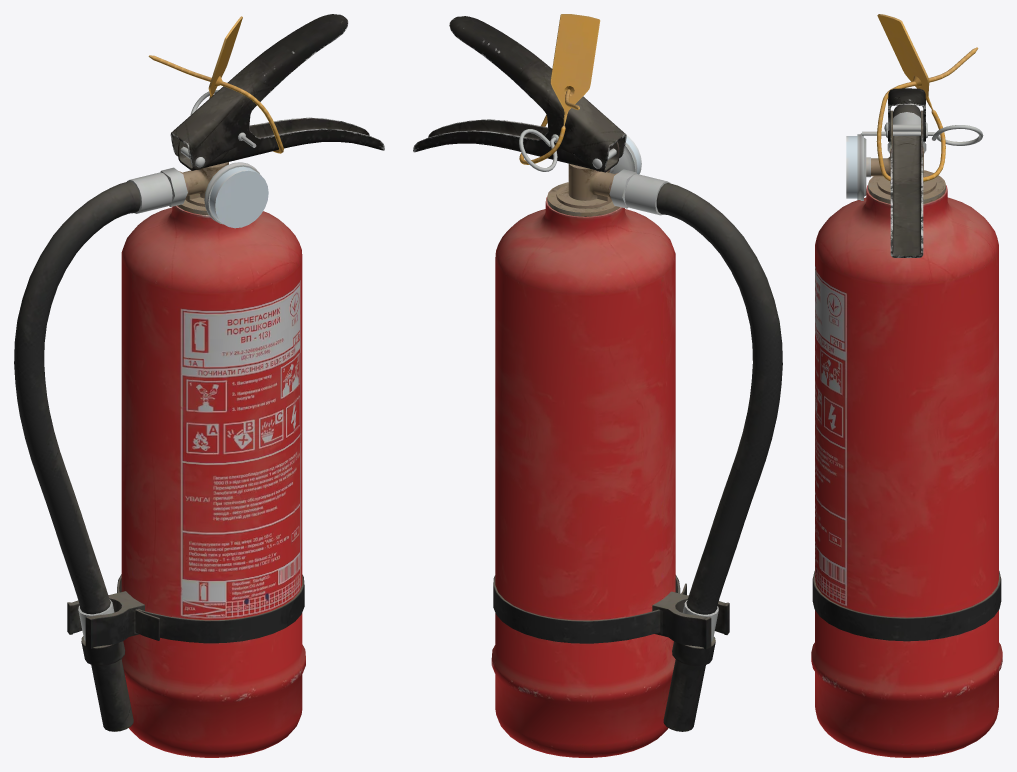
Rendered from fire-extinguisher.glb.
3 views of the same model, side by side, from view 1: azimuth 30°, elevation 25°; view 2: azimuth 150°, elevation 25°; view 3: azimuth 270°, elevation 25° (orthographic). The views are drawn at different scales.
Visible parts, largest first — view 1: Fire_Extinguisher_geo; view 2: Fire_Extinguisher_geo; view 3: Fire_Extinguisher_geo.
Part boxes in pixels (<box>): Fire_Extinguisher_geo: <box>14,14,384,757</box>; Fire_Extinguisher_geo: <box>413,14,782,757</box>; Fire_Extinguisher_geo: <box>811,14,1002,757</box>.
Size of the model in its own units: 0.221 by 0.4167 by 0.0998.
Materials: 1 (1 with a texture image).
